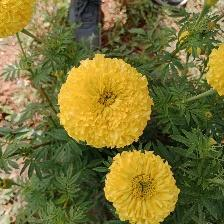marigold: (59, 56, 154, 150), (105, 149, 184, 224)
